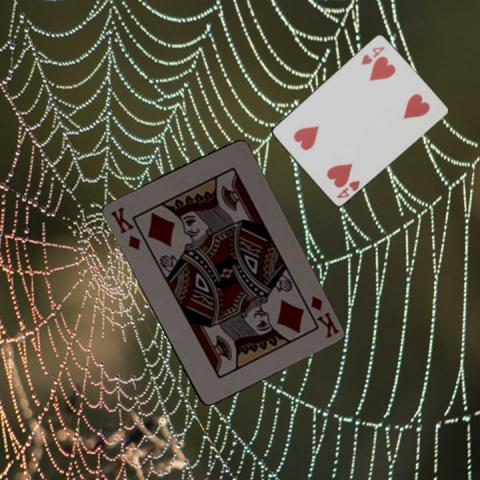4h: (358, 43, 387, 66), (334, 178, 362, 199)
Kd: (298, 292, 341, 340), (108, 203, 142, 253)
